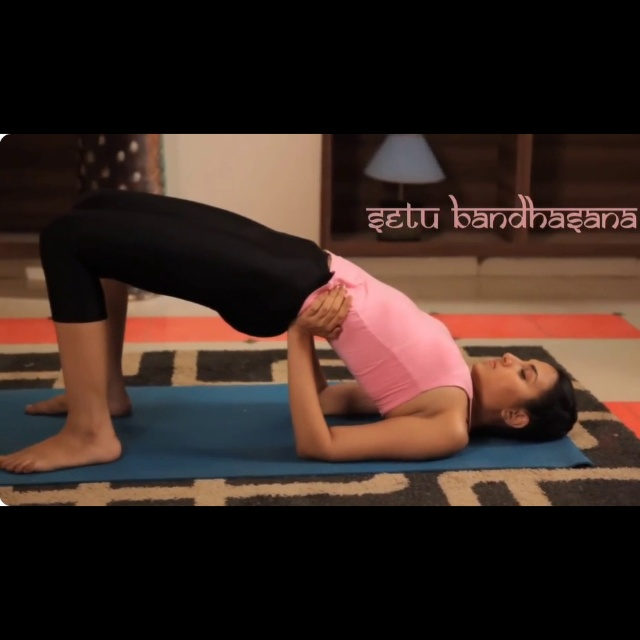Bridge_Pose: (1, 189, 586, 479)
